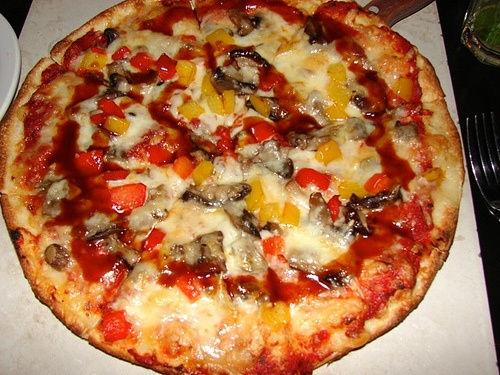pizza: (0, 1, 455, 372), (235, 121, 500, 375), (228, 7, 500, 155)
